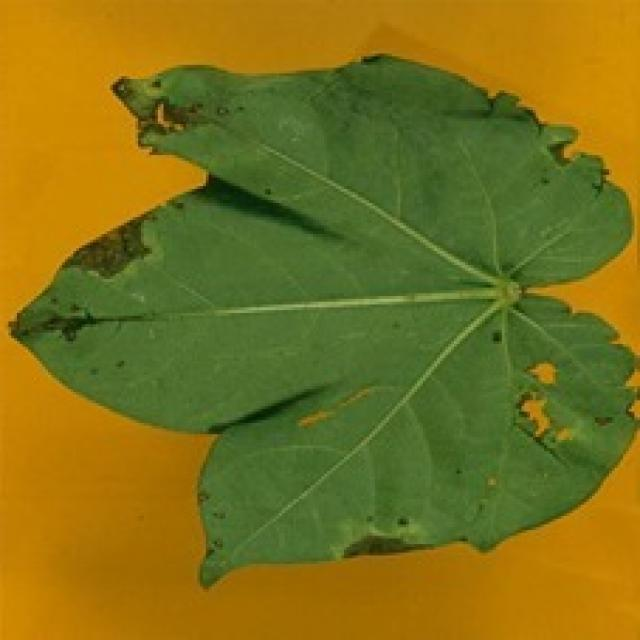Downy_Mildew: (6, 49, 260, 398), (324, 504, 440, 574)
